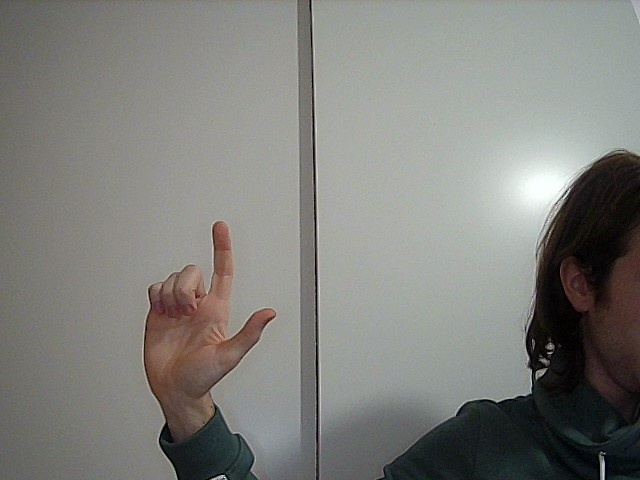l: (136, 214, 282, 399)
